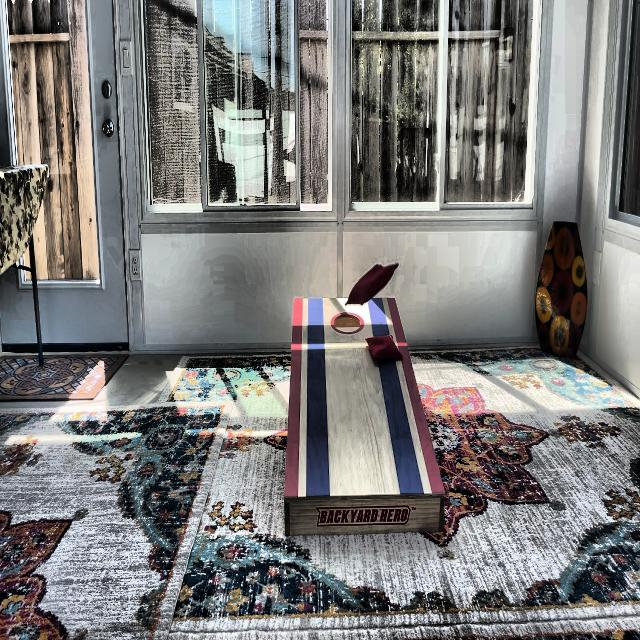board: (290, 299, 409, 495)
hole: (330, 311, 364, 334)
red-bean-bag: (345, 263, 399, 306), (365, 336, 401, 359)
